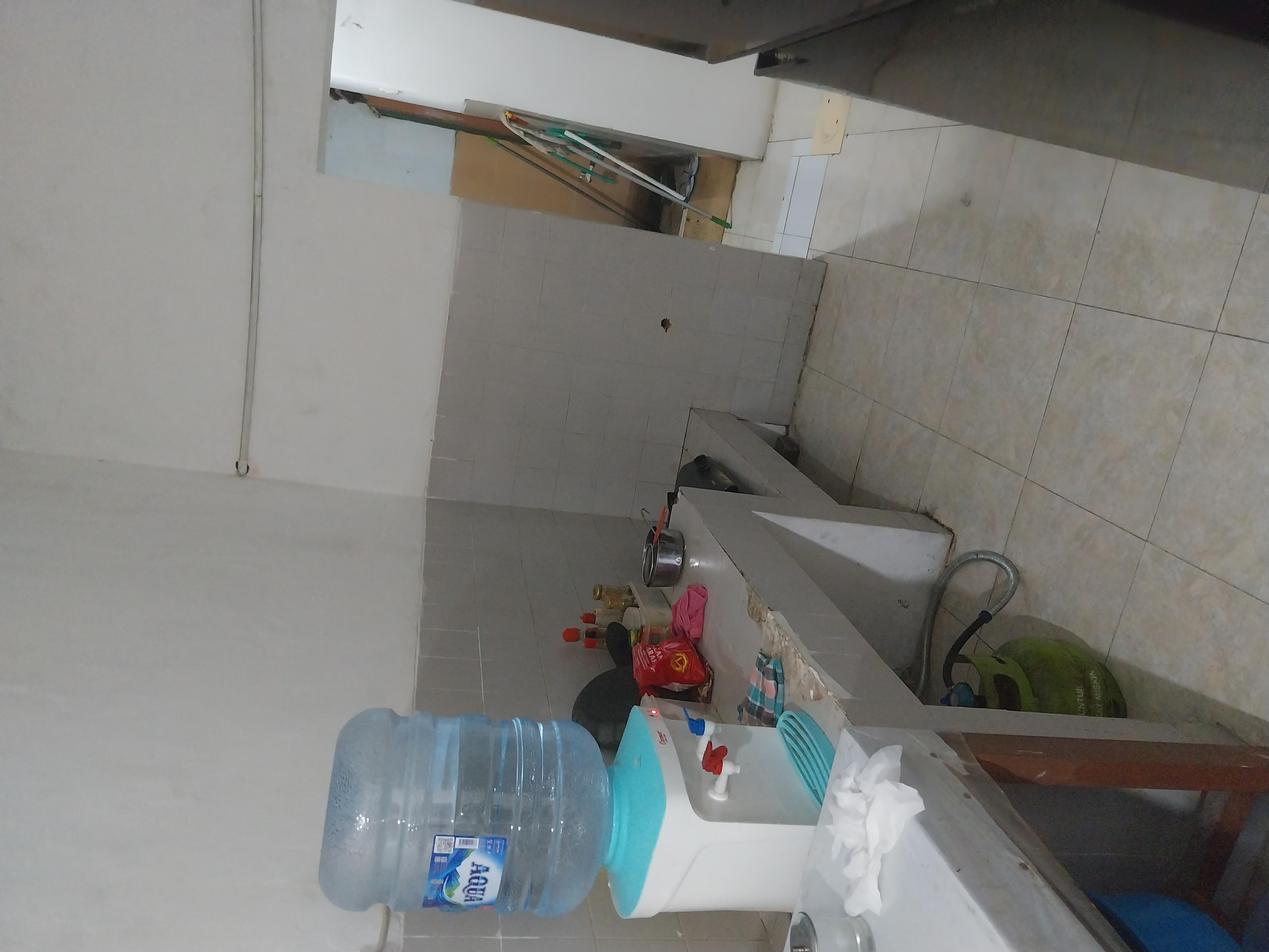floor-other-merged: (268, 479, 1169, 952)
refrigerator: (1013, 359, 1269, 952)
stove-merged: (563, 484, 679, 565)
table: (0, 626, 300, 952), (35, 597, 188, 647)
